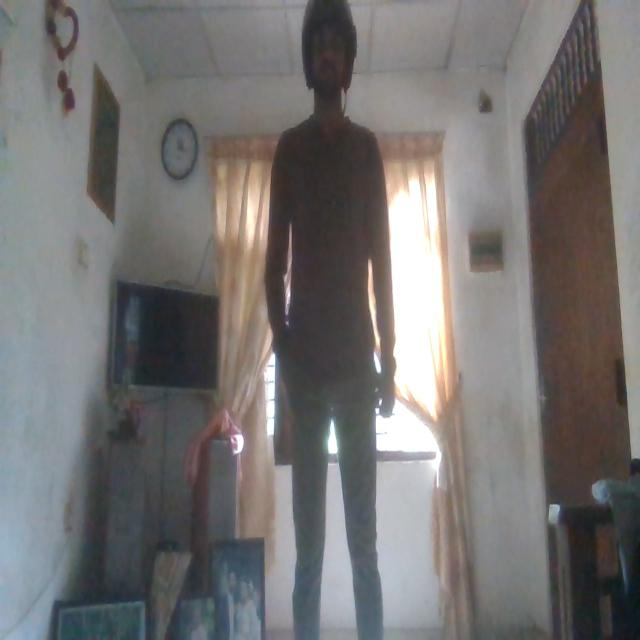Helmet_Wearer: (297, 2, 363, 132)
Person: (268, 5, 398, 640)
